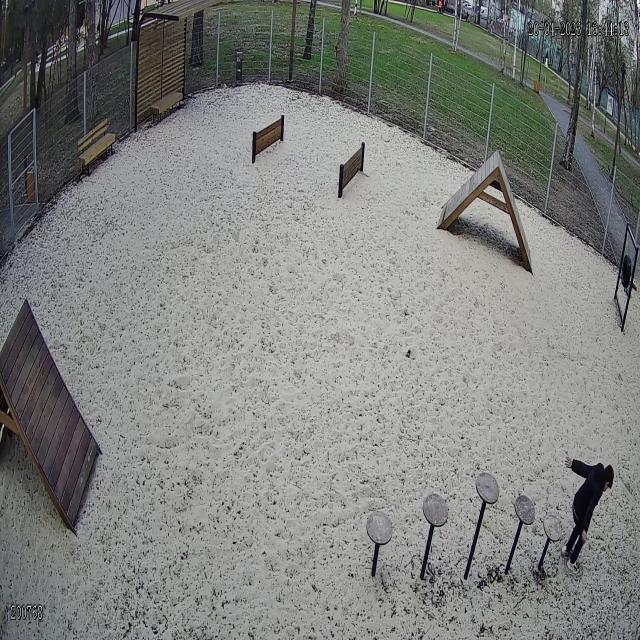person: (562, 458, 614, 567)
